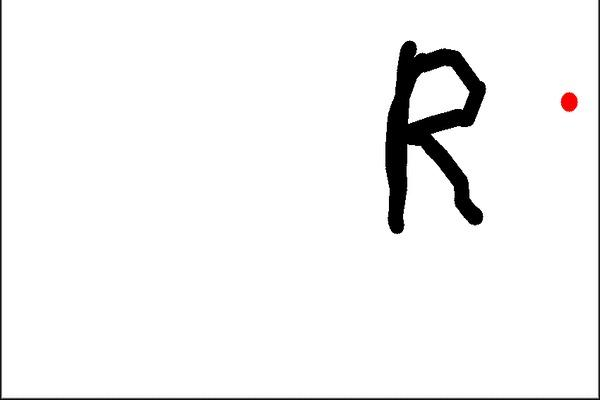R: (381, 33, 495, 232)
